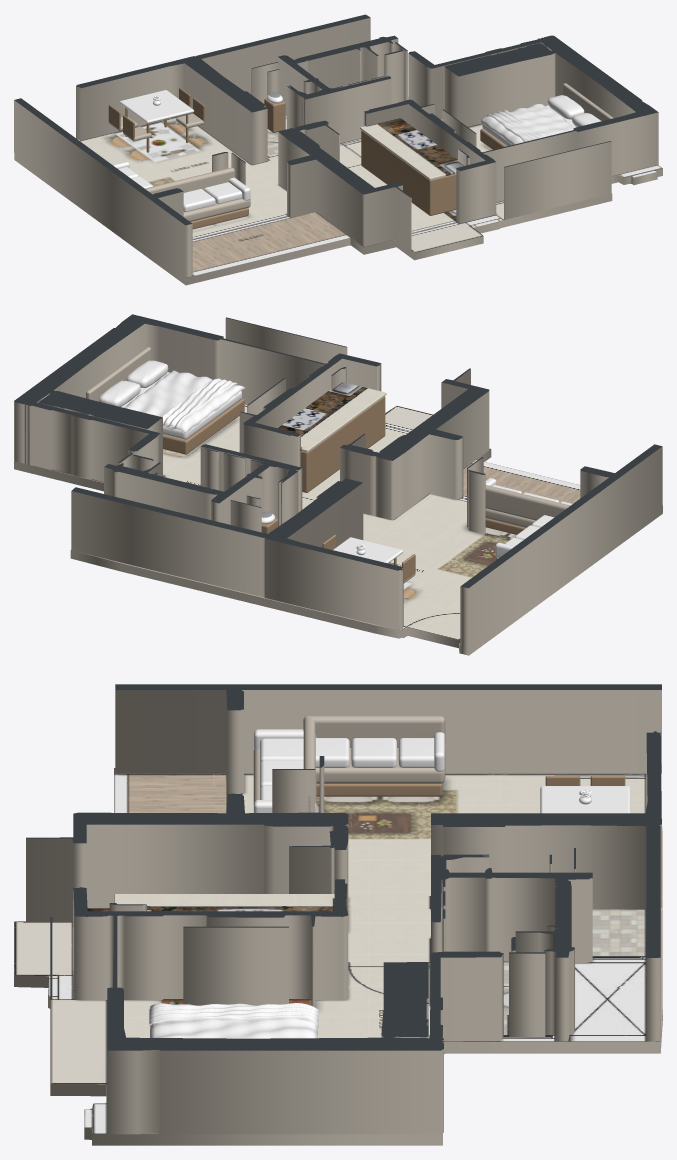
3 views of the same model, one above another, from view 1: azimuth 30°, elevation 25°; view 2: azimuth 150°, elevation 25°; view 3: azimuth 270°, elevation 25° (orthographic). The views are drawn at different scales.
Visible parts, largest first — view 1: Partition walls, Apartment floor, Kitchen cabinets, Stone worktop, Draped bed linen, Marble dining top, Sofa back, Upholstered sofa frame, Draped bed linen.001, Upholstered headboard, Vanity cabinet, Tailored pillow.001 (+3 smaller); view 2: Partition walls, Apartment floor, Stone worktop, Kitchen cabinets, Draped bed linen, Sofa back, Draped bed linen.001, Walnut upholstered base, Upholstered headboard, Marble dining top, Piped mattress, Tailored pillow (+1 smaller); view 3: Partition walls, Apartment floor, Stone worktop, Draped bed linen, Sofa back.001, Draped bed linen.001, Marble dining top, Upholstered sofa frame.001, Sofa plinth.001, Seat cushion.004, Seat cushion.005, Seat cushion (+2 smaller).
Boxes of the visible parts, left/top/right/bottom form: Partition walls: left=14, top=14, right=658, bottom=277; Apartment floor: left=14, top=97, right=662, bottom=285; Kitchen cabinets: left=361, top=130, right=456, bottom=215; Stone worktop: left=360, top=118, right=463, bottom=179; Draped bed linen: left=479, top=104, right=575, bottom=144; Marble dining top: left=119, top=90, right=193, bottom=123; Sofa back: left=145, top=167, right=234, bottom=194; Upholstered sofa frame: left=183, top=198, right=250, bottom=221; Draped bed linen.001: left=486, top=110, right=543, bottom=141; Upholstered headboard: left=562, top=83, right=613, bottom=120; Vanity cabinet: left=264, top=98, right=285, bottom=132; Tailored pillow.001: left=547, top=95, right=584, bottom=119; Partition walls: left=14, top=314, right=662, bottom=647; Apartment floor: left=14, top=404, right=662, bottom=655; Stone worktop: left=278, top=382, right=386, bottom=452; Kitchen cabinets: left=300, top=396, right=385, bottom=492; Draped bed linen: left=124, top=370, right=245, bottom=433; Sofa back: left=485, top=485, right=570, bottom=520; Draped bed linen.001: left=162, top=378, right=238, bottom=429; Walnut upholstered base: left=163, top=398, right=244, bottom=454; Upholstered headboard: left=86, top=347, right=151, bottom=401; Marble dining top: left=333, top=537, right=403, bottom=563; Piped mattress: left=121, top=372, right=241, bottom=439; Tailored pillow: left=126, top=360, right=168, bottom=388; Partition walls: left=26, top=684, right=661, bottom=1134; Apartment floor: left=14, top=768, right=662, bottom=1145; Stone worktop: left=114, top=894, right=334, bottom=911; Draped bed linen: left=150, top=1003, right=317, bottom=1038; Sofa back.001: left=303, top=715, right=445, bottom=747; Draped bed linen.001: left=149, top=1003, right=318, bottom=1027; Marble dining top: left=540, top=786, right=630, bottom=813; Upholstered sofa frame.001: left=315, top=747, right=445, bottom=783; Sofa plinth.001: left=316, top=783, right=442, bottom=796; Seat cushion.004: left=351, top=738, right=396, bottom=767; Seat cushion.005: left=398, top=738, right=434, bottom=767; Seat cushion: left=260, top=738, right=303, bottom=763.
Bounding box in the file's own units: 10.72 × 1.3 × 8.02.
Materials: 10 (1 with a texture image).
